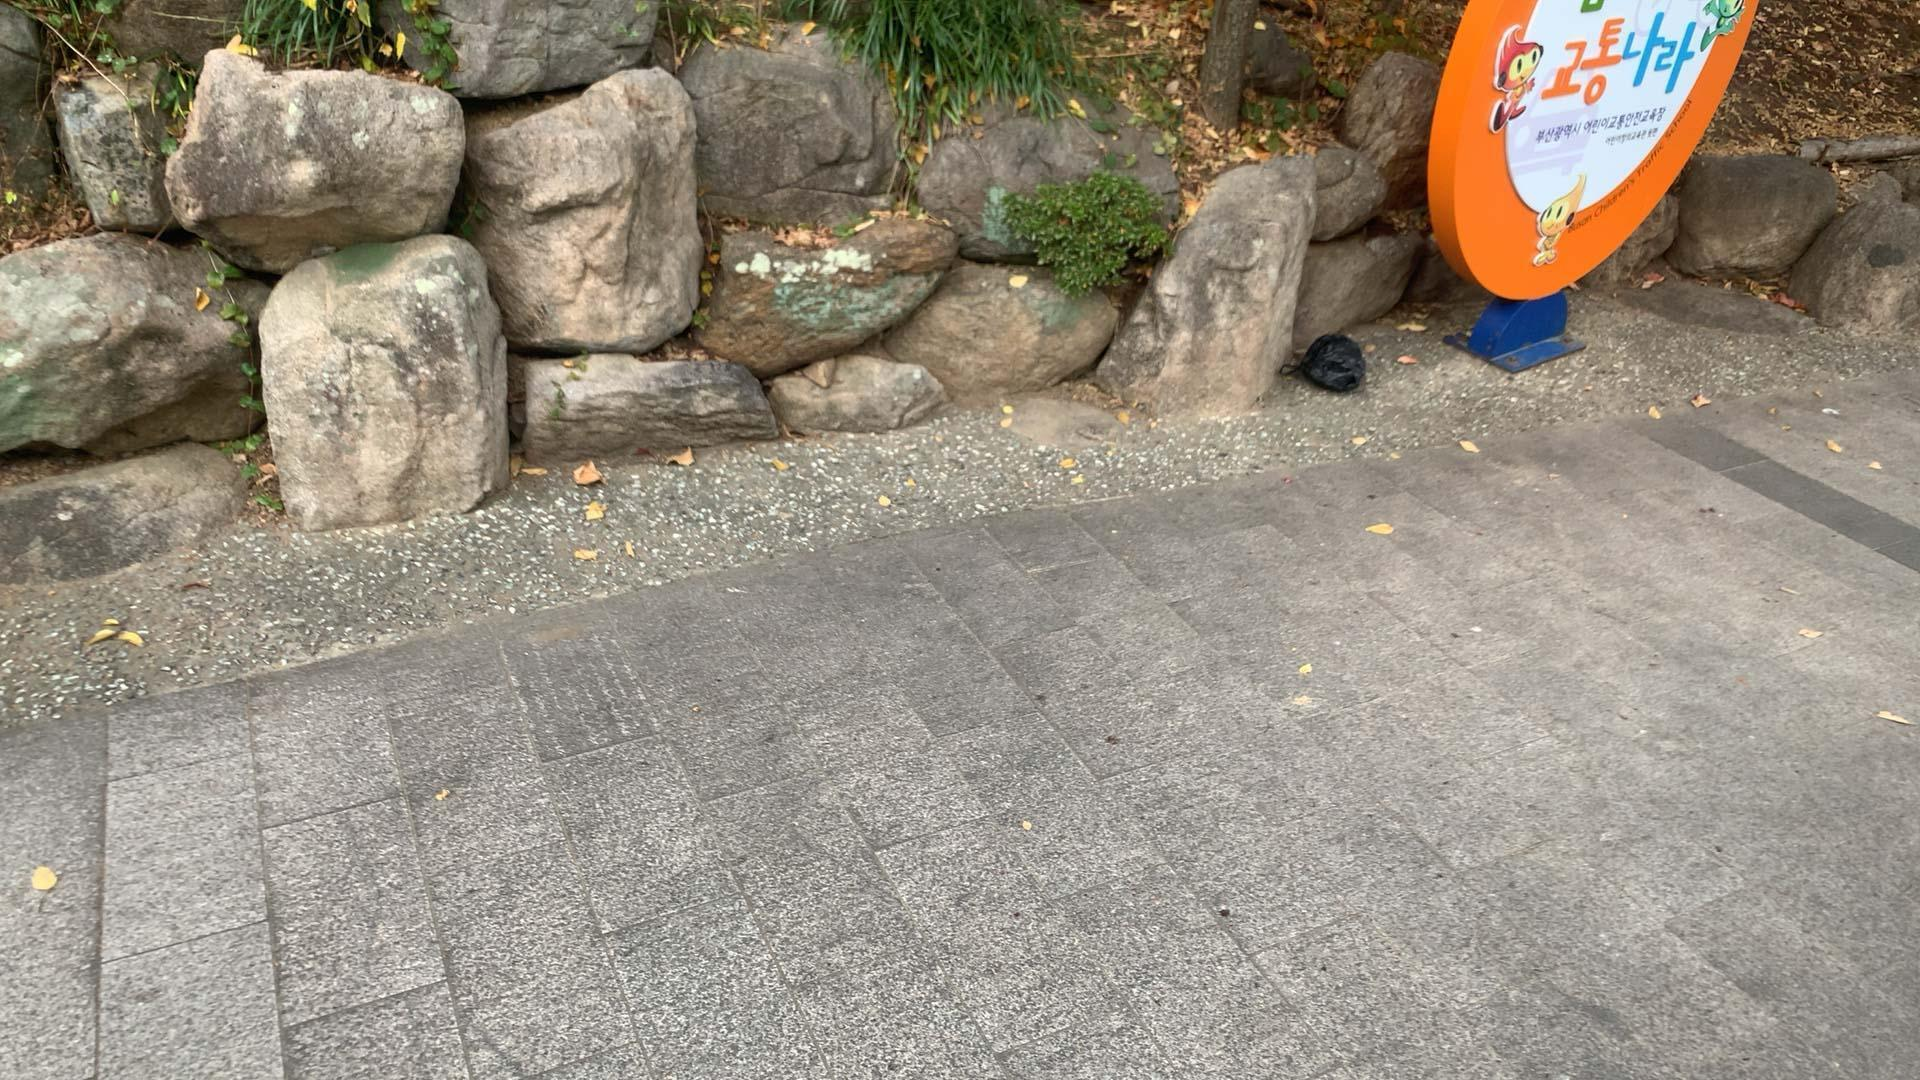black_bag: (1280, 332, 1369, 397)
